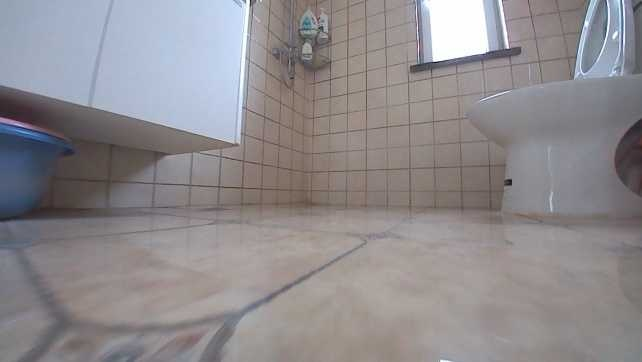toilet: (466, 0, 641, 220)
